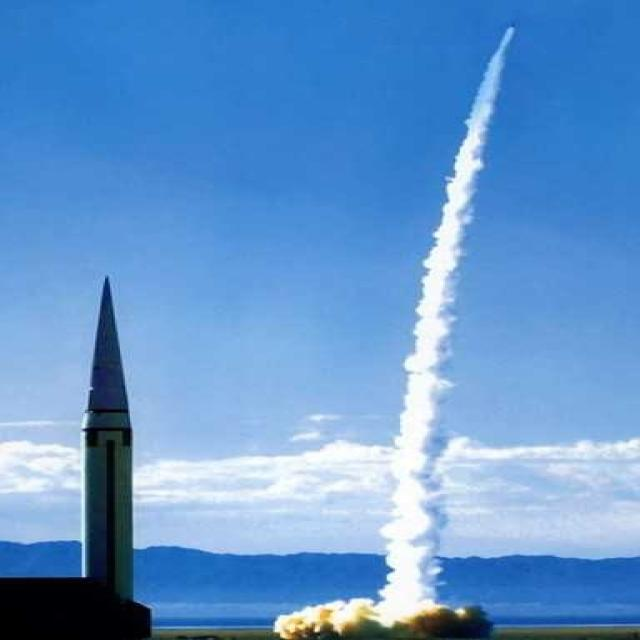missile: (84, 269, 148, 613), (489, 21, 518, 66)
